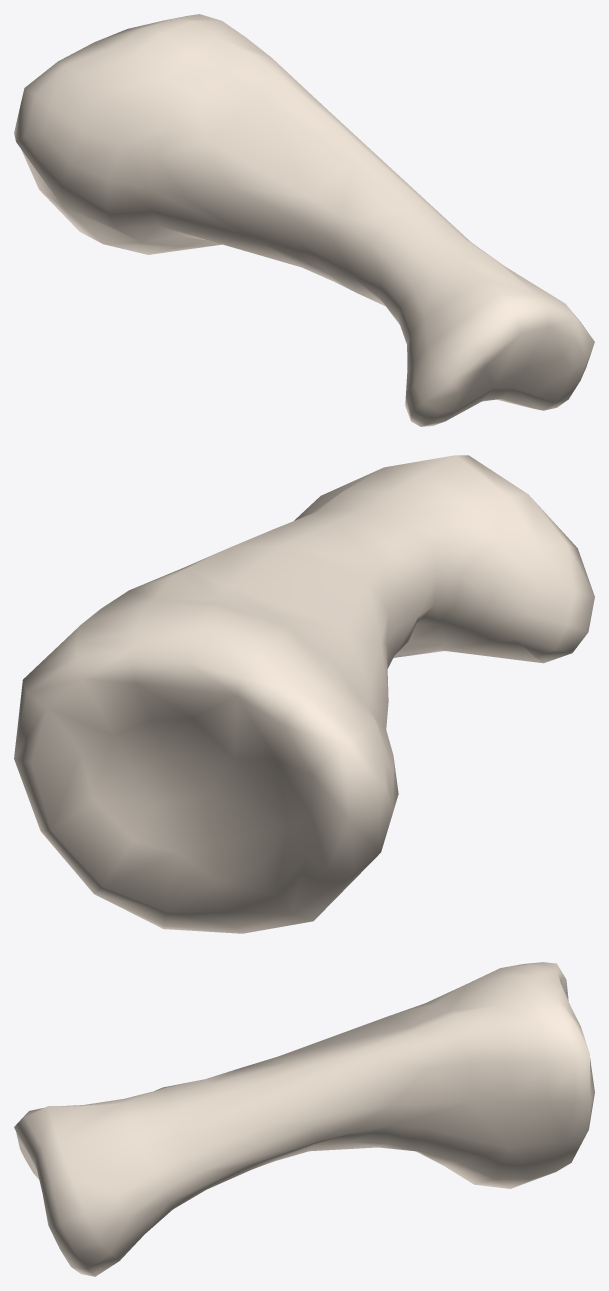
The model's file is left_toe_2_proximal.glb.
3 renders of one model, top to bottom at view 1: azimuth 30°, elevation 25°; view 2: azimuth 150°, elevation 25°; view 3: azimuth 270°, elevation 25°, orthographic. The views are drawn at different scales.
Visible parts, largest first — view 1: Proximal phalanx of second finger of foot.r; view 2: Proximal phalanx of second finger of foot.r; view 3: Proximal phalanx of second finger of foot.r.
Part boxes in pixels (x1,y1,x2,y2): Proximal phalanx of second finger of foot.r: (14,14,594,426); Proximal phalanx of second finger of foot.r: (14,455,594,933); Proximal phalanx of second finger of foot.r: (14,962,594,1276).
Size of the model in its own units: 0.013 by 0.00953 by 0.0222.
